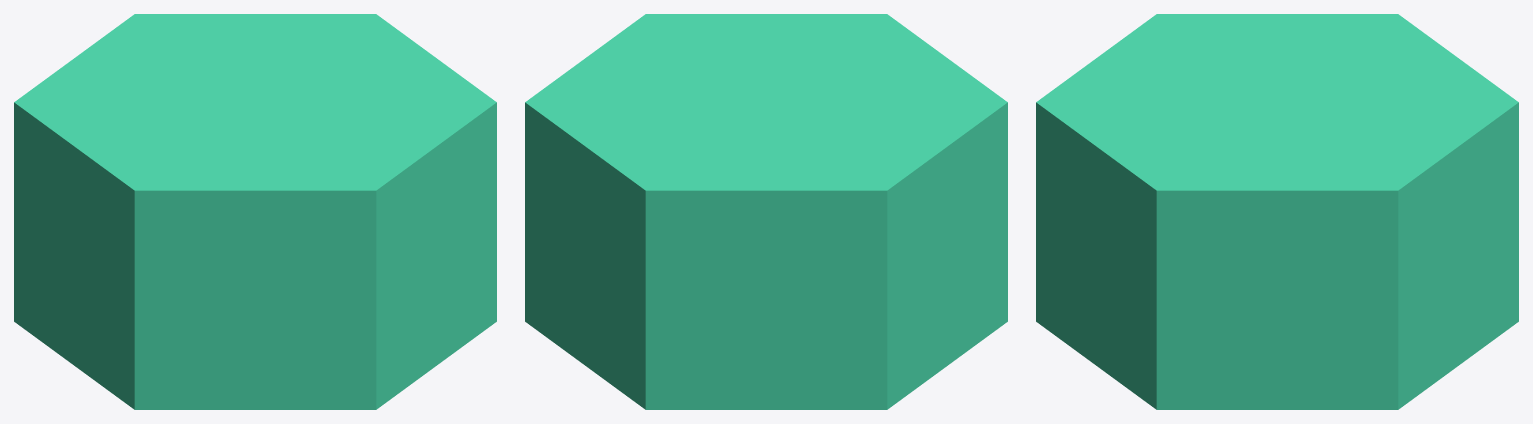
3 views of the same model, side by side, from view 1: azimuth 30°, elevation 25°; view 2: azimuth 150°, elevation 25°; view 3: azimuth 270°, elevation 25° (orthographic).
Visible parts, largest first — view 1: hexagone; view 2: hexagone; view 3: hexagone.
Boxes of the visible parts, box(x1,y1,x2,y2) form: hexagone: box(14, 14, 496, 409); hexagone: box(525, 14, 1007, 409); hexagone: box(1036, 14, 1518, 409).
Bounding box in the file's own units: 1.73 × 1 × 2.
